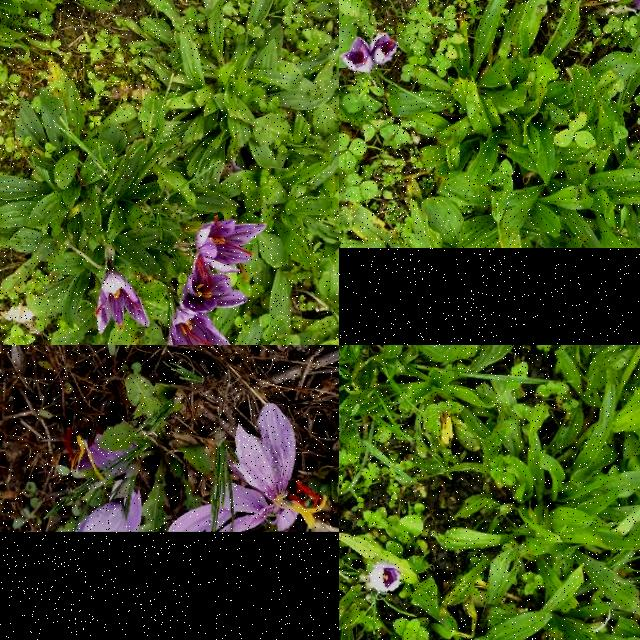flower: (180, 254, 248, 316), (195, 216, 267, 274), (92, 275, 150, 335), (167, 310, 232, 345), (340, 38, 372, 74), (368, 561, 402, 593), (370, 34, 400, 64)
